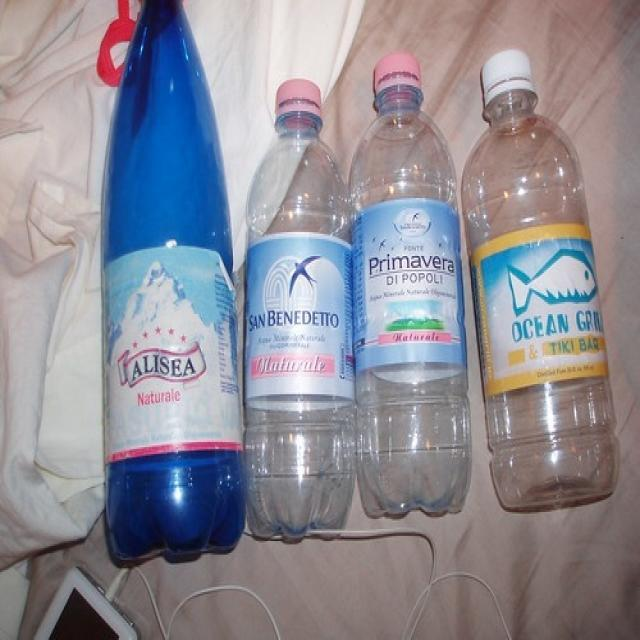plastic_bottle: (102, 1, 246, 561), (460, 50, 620, 508), (347, 53, 471, 518), (244, 79, 360, 539)
